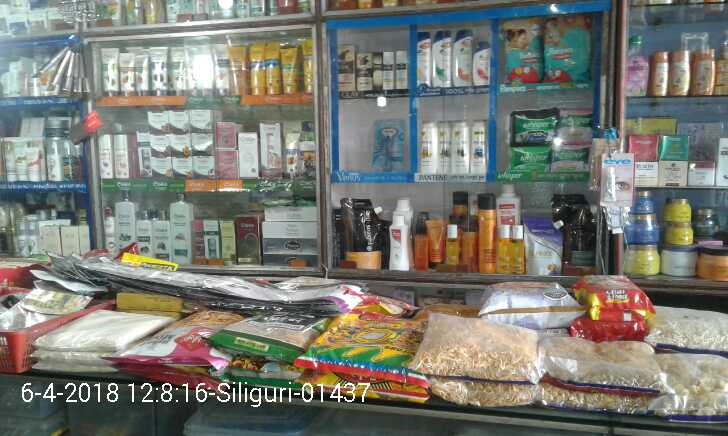venus: (371, 119, 405, 174)
